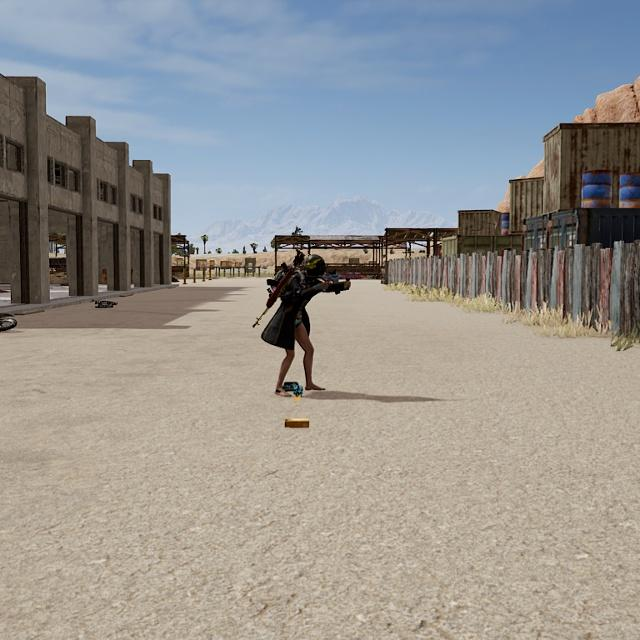head: (301, 252, 329, 282)
people: (274, 252, 333, 395)
